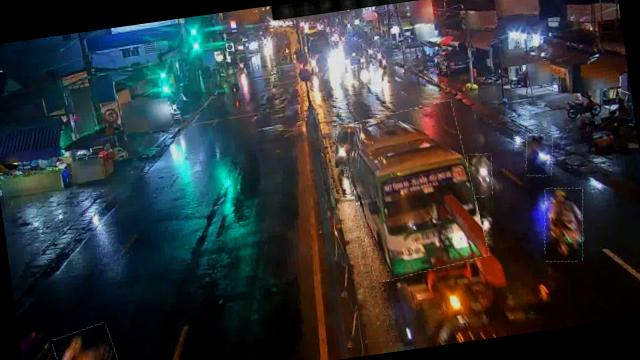Bike: (538, 184, 590, 264), (52, 323, 124, 360), (522, 132, 556, 178), (463, 152, 495, 198)
Bus: (341, 100, 486, 282)
Car: (330, 121, 365, 172)
